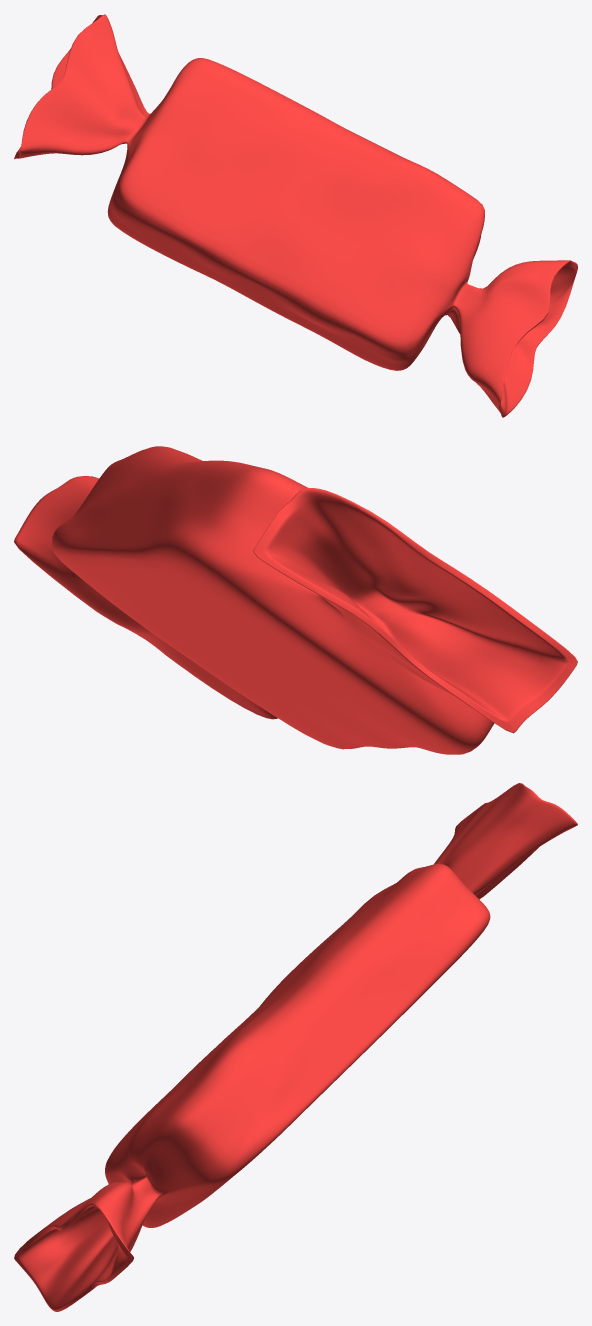
Rendered from Candy Model.fbx.
The picture shows the model from 3 angles, top to bottom: view 1: azimuth 30°, elevation 25°; view 2: azimuth 150°, elevation 25°; view 3: azimuth 270°, elevation 25°; orthographic projection. The views are drawn at different scales.
Parts seen in each view (by area): view 1: Cube.018; view 2: Cube.018; view 3: Cube.018.
Part boxes in pixels (x1=…): Cube.018: x1=14, y1=14, x2=577, y2=417; Cube.018: x1=14, y1=446, x2=577, y2=754; Cube.018: x1=14, y1=783, x2=577, y2=1311.
Size of the model in its own units: 306 by 215 by 280.
